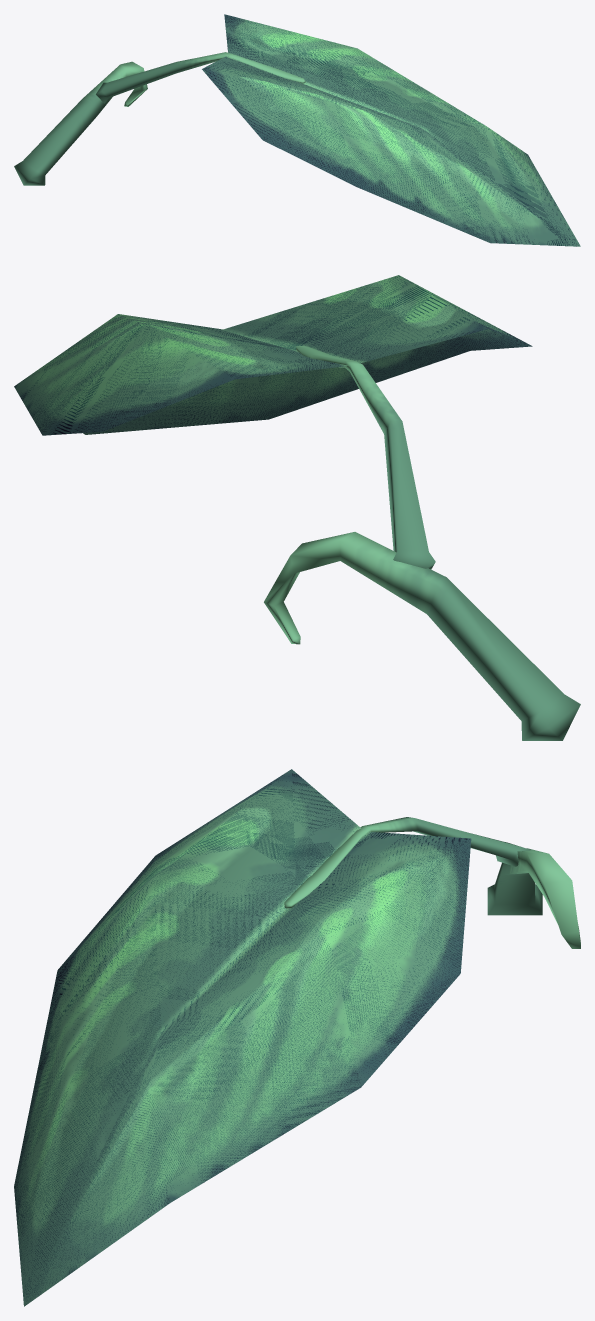
File: leaf04.fbx
The picture shows the model from 3 angles, top to bottom: view 1: azimuth 30°, elevation 25°; view 2: azimuth 150°, elevation 25°; view 3: azimuth 270°, elevation 25°; orthographic projection. The views are drawn at different scales.
Visible parts, largest first — view 1: leaf04; view 2: leaf04; view 3: leaf04.
Boxes of the visible parts, x1=… form: leaf04: x1=14, y1=14, x2=580, y2=246; leaf04: x1=14, y1=275, x2=580, y2=740; leaf04: x1=14, y1=769, x2=580, y2=1306.
Size of the model in its own units: 0.7258 by 0.323 by 0.5445.
